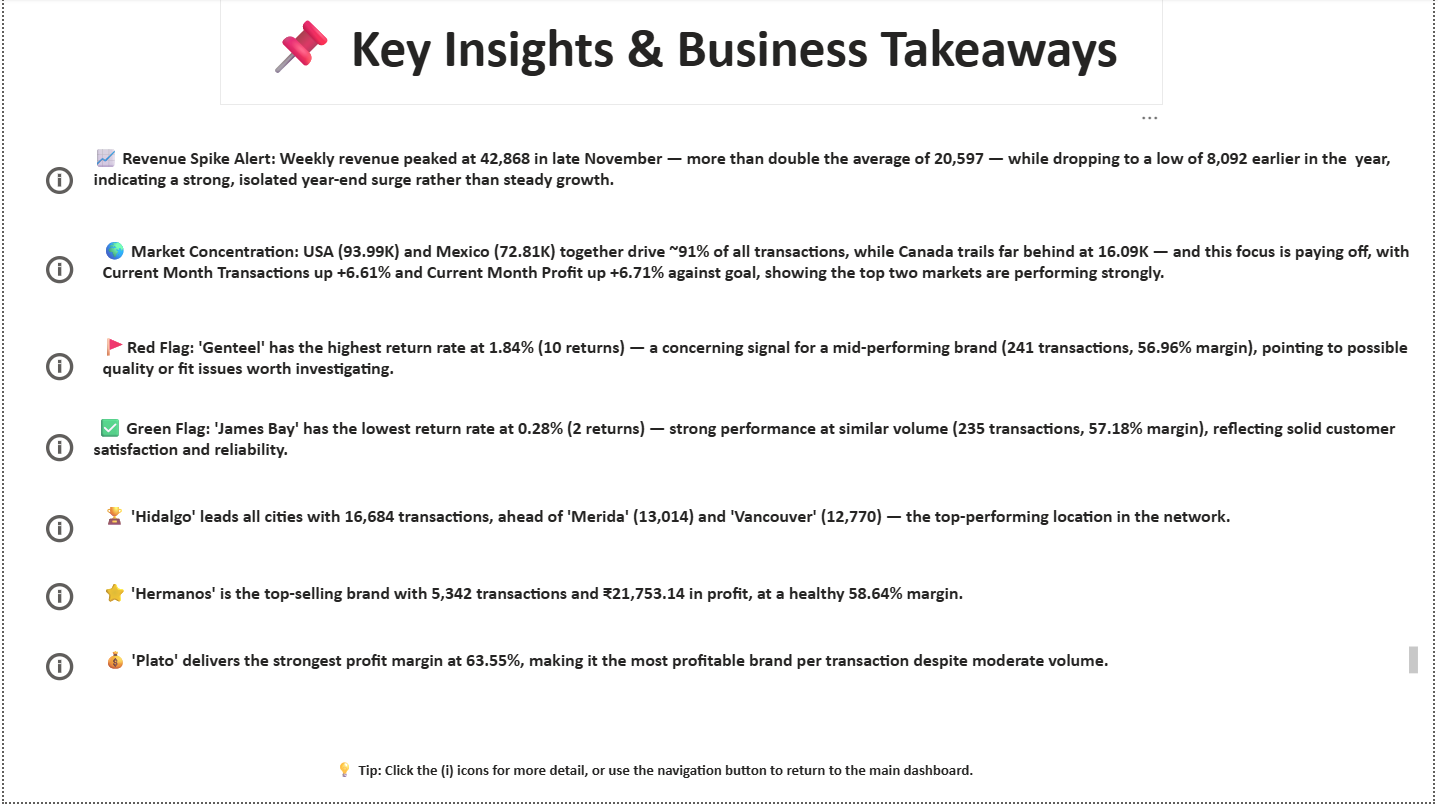

Layout of this report page (visuals, bound fields, positions):
{"tool":"powerbi","page":{"name":"Notes","canvas":[1280,720],"ordinal":1},"visuals":[{"type":"textbox","box":[75.3,438.8,1177.8,58.9],"z":0},{"type":"textbox","box":[75.3,507.5,1204.4,42.2],"z":1000},{"type":"textbox","box":[75.3,287.5,1204.4,70.7],"z":2000},{"type":"textbox","box":[75.3,567.5,1204.4,48.1],"z":3000},{"type":"textbox","box":[75.3,368,1204.4,55],"z":4000},{"type":"textbox","box":[75.3,201,1204.4,70.7],"z":5000},{"type":"textbox","box":[75.2,126.3,1204.5,67.2],"z":6000},{"type":"actionButton","box":[33.5,226.9,34.4,33.4],"z":7000},{"type":"actionButton","box":[33.5,582.5,34.4,33.4],"z":8000},{"type":"actionButton","box":[33.5,519.6,34.4,33.4],"z":9000},{"type":"actionButton","box":[33.5,313.3,34.4,33.4],"z":10000},{"type":"actionButton","box":[33.5,458.7,34.4,33.4],"z":11000},{"type":"actionButton","box":[33.5,386,34.4,33.4],"z":12000},{"type":"actionButton","box":[33.1,146.9,34.9,33.1],"z":13000},{"type":"textbox","box":[291,670.7,618.8,49.3],"z":14000},{"type":"textbox","box":[193.4,0,844.5,95.8],"z":15000}]}

Visuals, with their boxes in screenshot pixels (x1, y1, x2, y2), scaled from the page's 1280x720 canvas onto the 1438x805 screenshot:
textbox: {"x1": 85, "y1": 491, "x2": 1408, "y2": 556}
textbox: {"x1": 85, "y1": 567, "x2": 1437, "y2": 615}
textbox: {"x1": 85, "y1": 321, "x2": 1437, "y2": 400}
textbox: {"x1": 85, "y1": 634, "x2": 1437, "y2": 688}
textbox: {"x1": 85, "y1": 411, "x2": 1437, "y2": 473}
textbox: {"x1": 85, "y1": 225, "x2": 1437, "y2": 304}
textbox: {"x1": 84, "y1": 141, "x2": 1437, "y2": 216}
actionButton: {"x1": 38, "y1": 254, "x2": 76, "y2": 291}
actionButton: {"x1": 38, "y1": 651, "x2": 76, "y2": 689}
actionButton: {"x1": 38, "y1": 581, "x2": 76, "y2": 618}
actionButton: {"x1": 38, "y1": 350, "x2": 76, "y2": 388}
actionButton: {"x1": 38, "y1": 513, "x2": 76, "y2": 550}
actionButton: {"x1": 38, "y1": 432, "x2": 76, "y2": 469}
actionButton: {"x1": 37, "y1": 164, "x2": 76, "y2": 201}
textbox: {"x1": 327, "y1": 750, "x2": 1022, "y2": 804}
textbox: {"x1": 217, "y1": 0, "x2": 1166, "y2": 107}
